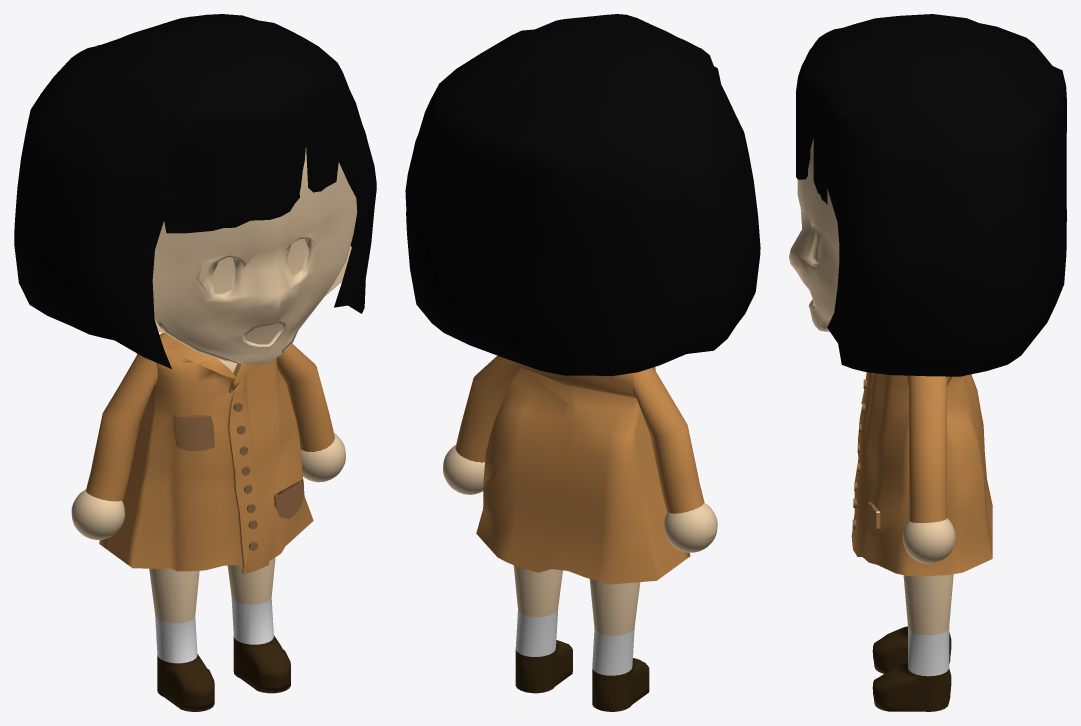
File: charater22 2.fbx
3 views of the same model, side by side, from view 1: azimuth 30°, elevation 25°; view 2: azimuth 150°, elevation 25°; view 3: azimuth 270°, elevation 25° (orthographic).
Parts seen in each view (by area): view 1: pPlane2, pPipe4, pCylinder6, pCylinder5, pSphere1, pSphere2; view 2: pPlane2, pPipe4, pCylinder6, pCylinder5, pSphere1, pSphere2; view 3: pPlane2, pPipe4, pCylinder5, pSphere2, pCylinder6.
Part boxes in pixels (x1,y1,x2,y2): pPlane2: (14,14,376,368); pPipe4: (86,148,357,574); pCylinder6: (149,568,214,711); pCylinder5: (227,557,290,693); pSphere1: (71,489,124,539); pSphere2: (300,433,345,482); pPlane2: (405,14,760,376); pPipe4: (455,355,704,584); pCylinder6: (589,578,649,711); pCylinder5: (513,565,572,693); pSphere1: (664,502,717,552); pSphere2: (443,445,484,494); pPlane2: (796,14,1066,376); pPipe4: (789,138,992,576); pCylinder5: (872,574,953,711); pSphere2: (902,518,955,563); pCylinder6: (872,626,951,673).
Bounding box in the file's own units: 8.09 × 15.62 × 6.1.
